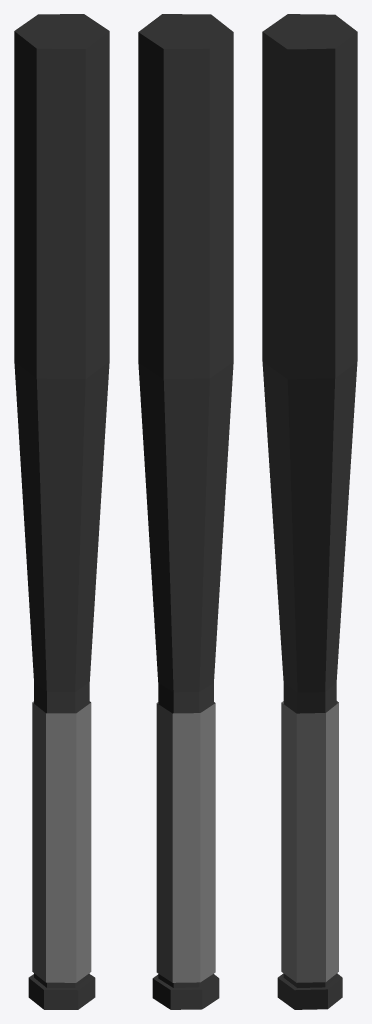
File: Item_Bat02.FBX
The picture shows the model from 3 angles, left to right: view 1: azimuth 30°, elevation 25°; view 2: azimuth 210°, elevation 25°; view 3: azimuth 270°, elevation 25°; orthographic projection.
Visible parts, largest first — view 1: Item_Bat02; view 2: Item_Bat02; view 3: Item_Bat02.
Boxes of the visible parts, <box> form: Item_Bat02: <box>14,14,109,1009</box>; Item_Bat02: <box>138,14,233,1009</box>; Item_Bat02: <box>262,14,357,1009</box>.
Bounding box in the file's own units: 6.17 × 78.29 × 6.98.
